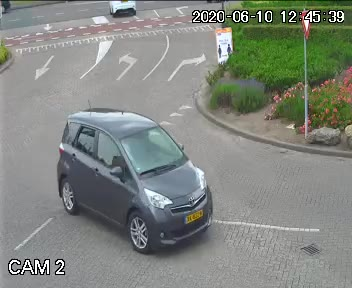car: (56, 97, 219, 258)
